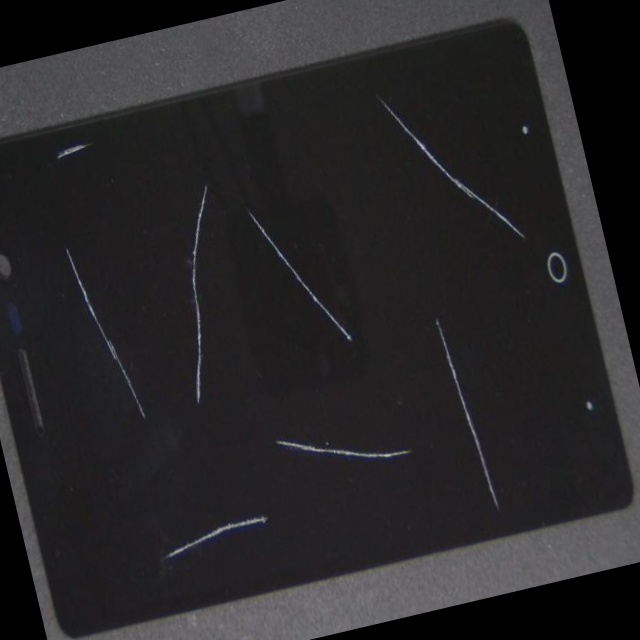scratch: (222, 223, 630, 640), (261, 323, 640, 639), (138, 253, 418, 640), (74, 9, 327, 379), (159, 0, 576, 206), (201, 216, 528, 452), (0, 49, 163, 440), (0, 78, 134, 220)
